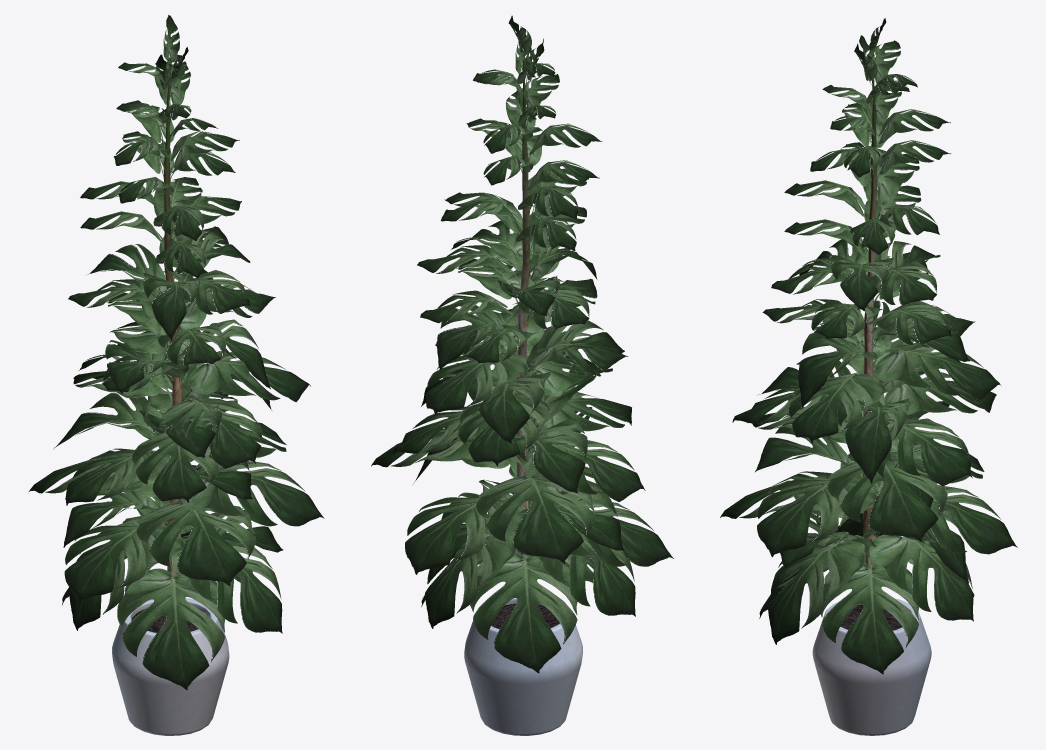
The model's file is Plant2.fbx.
3 views of the same model, side by side, from view 1: azimuth 30°, elevation 25°; view 2: azimuth 150°, elevation 25°; view 3: azimuth 270°, elevation 25° (orthographic).
Parts seen in each view (by area): view 1: leaves3, base3; view 2: leaves3, base3; view 3: leaves3, base3.
Part boxes in pixels (x1,y1,x2,y2): leaves3: (29,14,324,690); base3: (112,72,229,735); leaves3: (371,15,673,673); base3: (464,59,582,735); leaves3: (720,18,1017,674); base3: (812,63,931,735).
Size of the model in its own units: 0.9813 by 2.39 by 0.9845.
2 materials, 2 textured.
